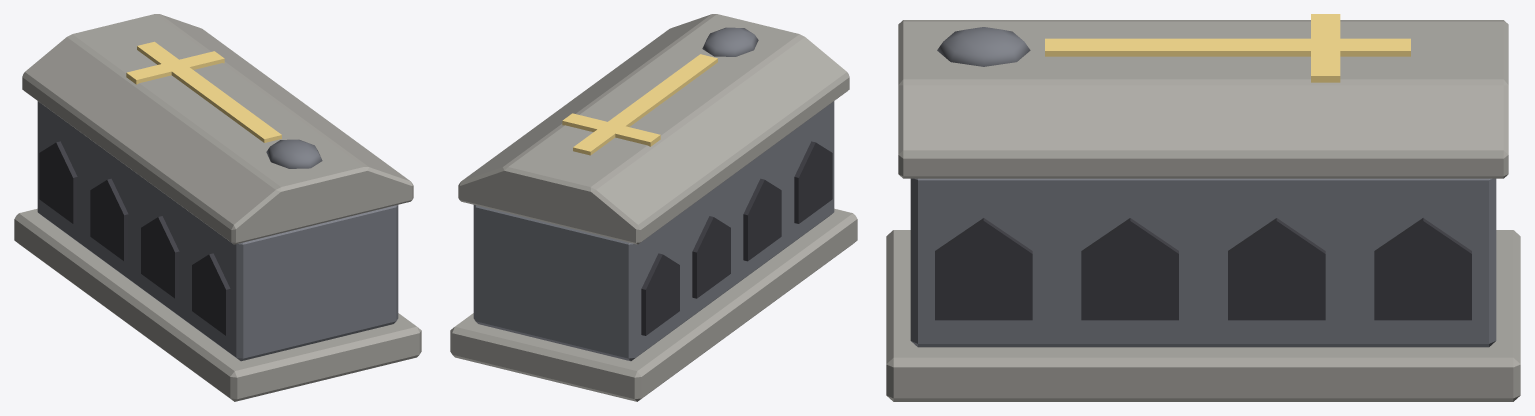
Rendered from cr_coffin.glb.
3 renders of one model, left to right at view 1: azimuth 30°, elevation 25°; view 2: azimuth 150°, elevation 25°; view 3: azimuth 270°, elevation 25°, orthographic. The views are drawn at different scales.
Parts seen in each view (by area): view 1: cr_coffin, lid; view 2: cr_coffin, lid; view 3: cr_coffin, lid.
Part boxes in pixels (left/top/right/bottom): cr_coffin: left=14, top=101, right=421, bottom=401; lid: left=22, top=14, right=413, bottom=244; cr_coffin: left=450, top=101, right=857, bottom=401; lid: left=458, top=14, right=849, bottom=244; cr_coffin: left=886, top=178, right=1520, bottom=401; lid: left=898, top=14, right=1508, bottom=178.
Size of the model in its own units: 1.3 by 1.38 by 2.6.
